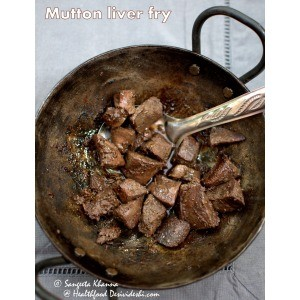liver_brain food: (71, 130, 201, 234)
